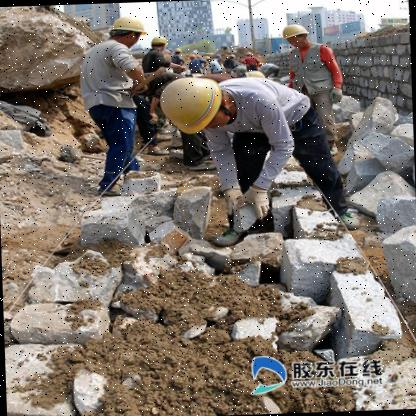bota: (323, 201, 361, 231), (212, 224, 244, 247)
capacete: (160, 75, 233, 134), (109, 16, 149, 48), (279, 23, 312, 48), (149, 34, 168, 52), (173, 46, 182, 56), (204, 56, 214, 62), (188, 54, 196, 61), (228, 53, 235, 60), (245, 51, 252, 57)
